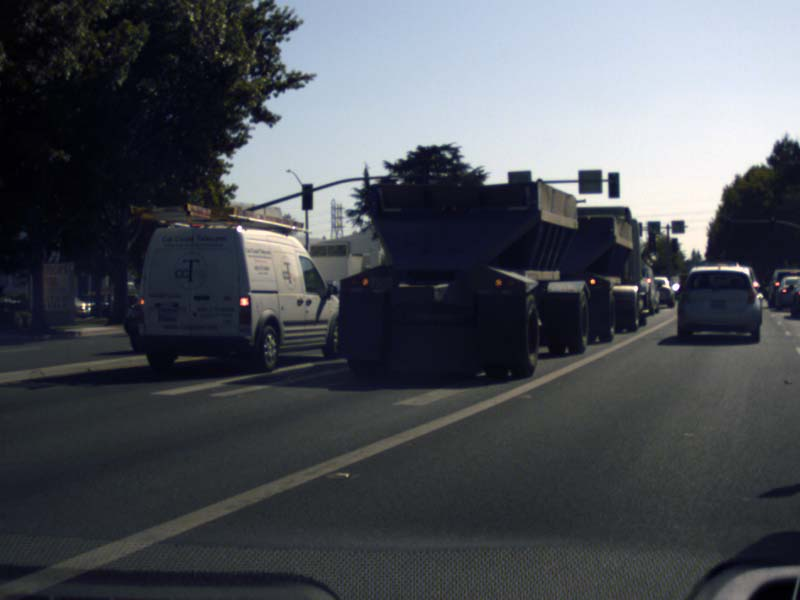Red: (768, 214, 775, 228), (724, 216, 730, 230)
